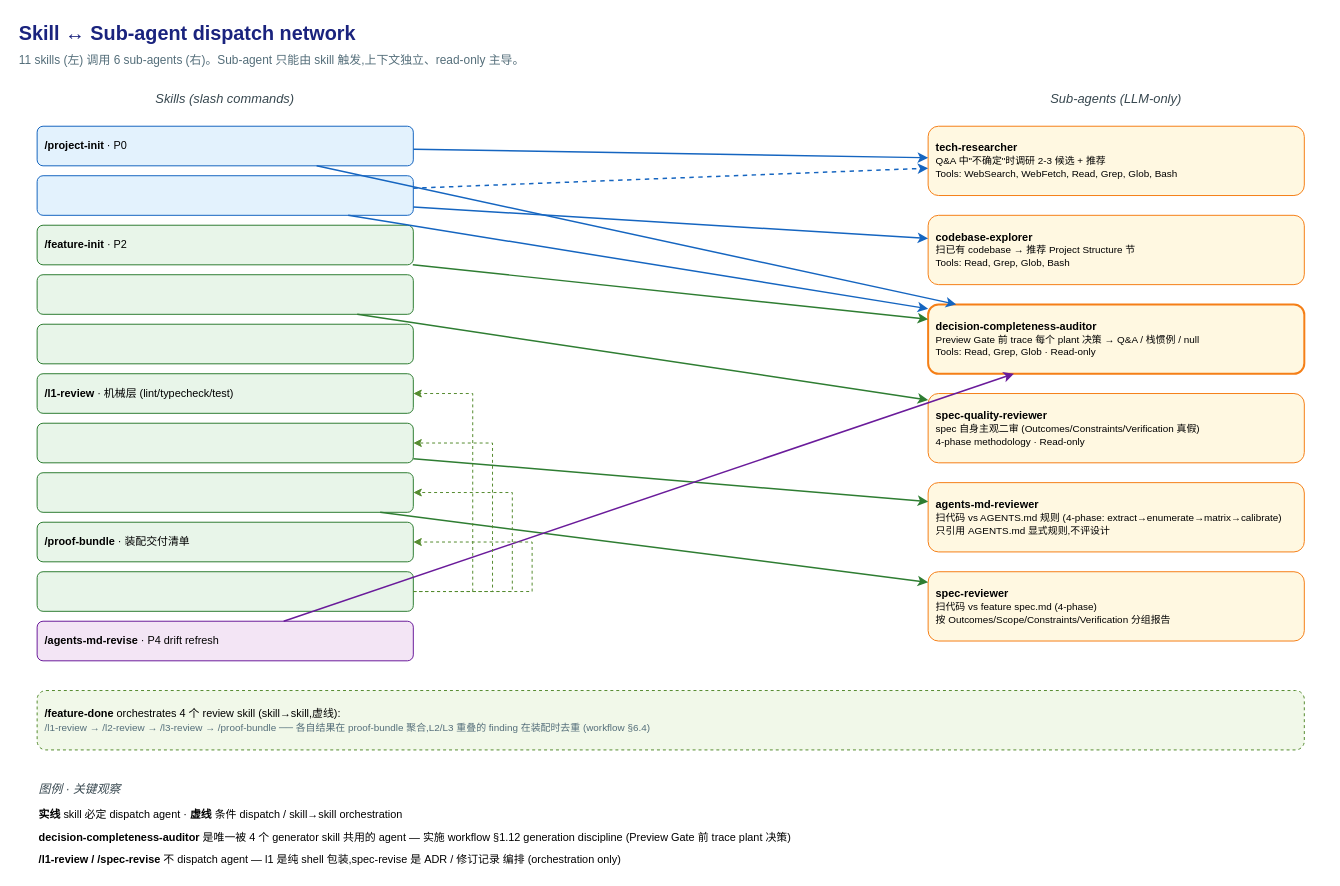
The diagram is 1340 pixels wide and 886 high, and some of its shapes have lost their labels. The shapes that lost their labels are listed below. From the top down, each one's box as (x1, y1, x2, y2) in pixels, then its label:
(36, 175, 413, 215): /project-personalize · P0
(36, 274, 413, 314): /spec-quality-check · P2 pre-impl gate
(36, 323, 413, 364): /spec-revise · P2 mid-impl
(36, 422, 413, 463): /l2-review · AGENTS.md 合规层
(36, 472, 413, 512): /l3-review · spec.md 合规层
(36, 571, 413, 611): /feature-done · 端点 composite (= L1+L2+L3+proof)
